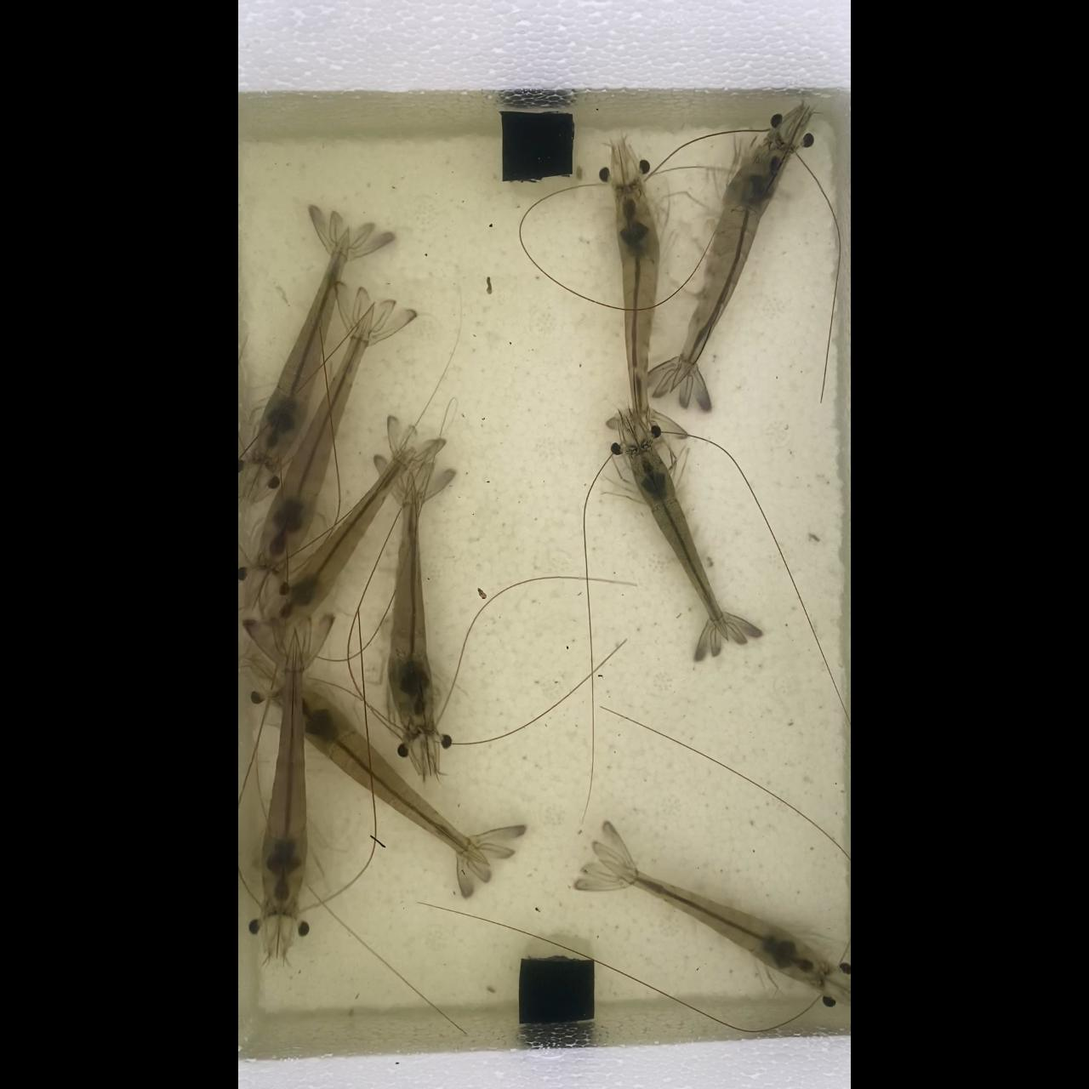box: (501, 111, 574, 182), (519, 956, 594, 1024)
top_shrimp: (279, 683, 493, 864), (672, 140, 790, 393), (598, 856, 826, 986), (260, 304, 373, 565), (267, 446, 419, 628), (252, 230, 349, 464), (631, 445, 728, 641), (264, 633, 308, 912), (390, 476, 435, 733), (614, 184, 659, 438)
